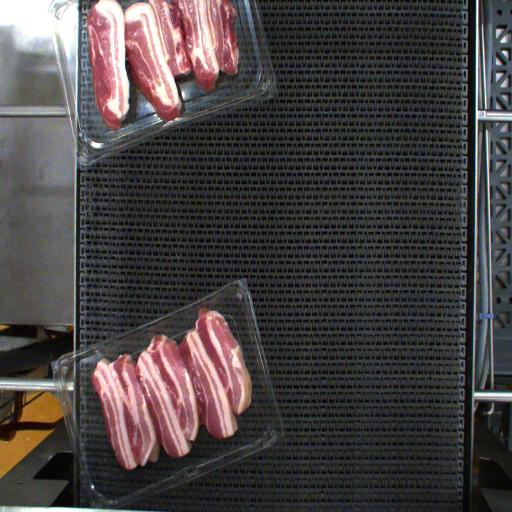packaging-error: (197, 302, 208, 310)
